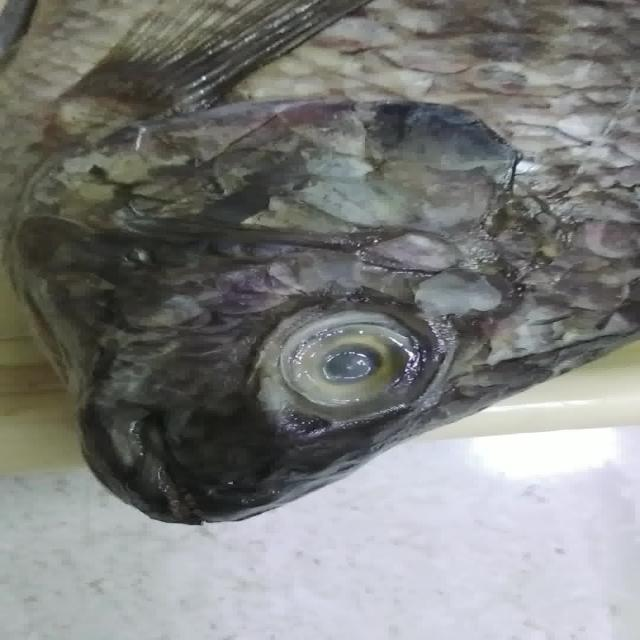Non-Fresh: (255, 301, 444, 425)
